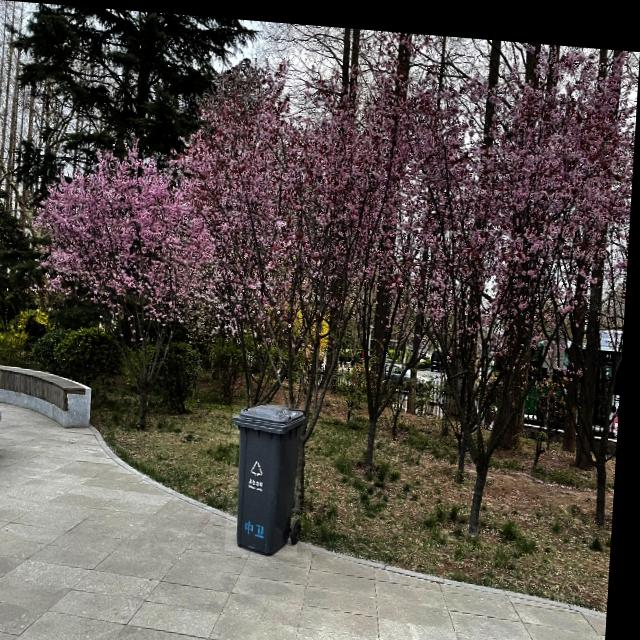garbage_bin: (231, 395, 310, 551)
